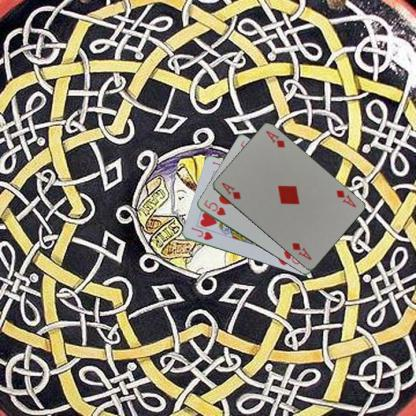5h: (201, 197, 227, 217)
Ad: (333, 187, 357, 209), (219, 180, 242, 200)
Jh: (188, 224, 214, 242)
